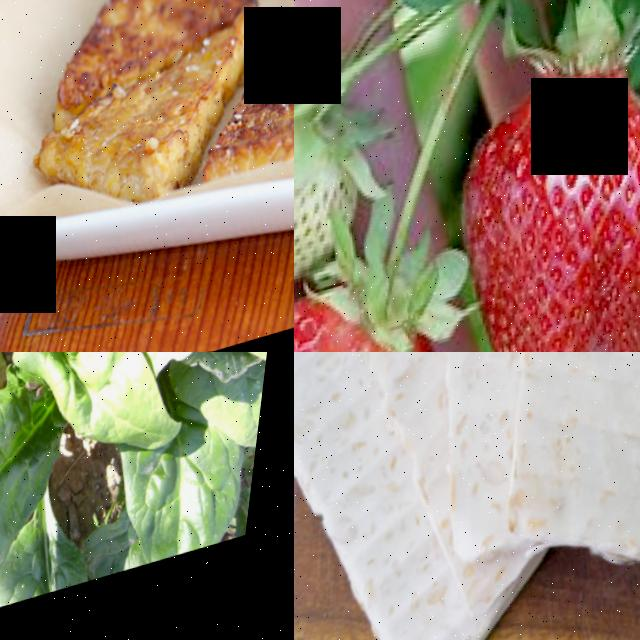spinach: (12, 352, 202, 506), (0, 380, 77, 585)
strawberry: (421, 35, 640, 352), (294, 264, 496, 352)
tempeh: (452, 352, 640, 640)
